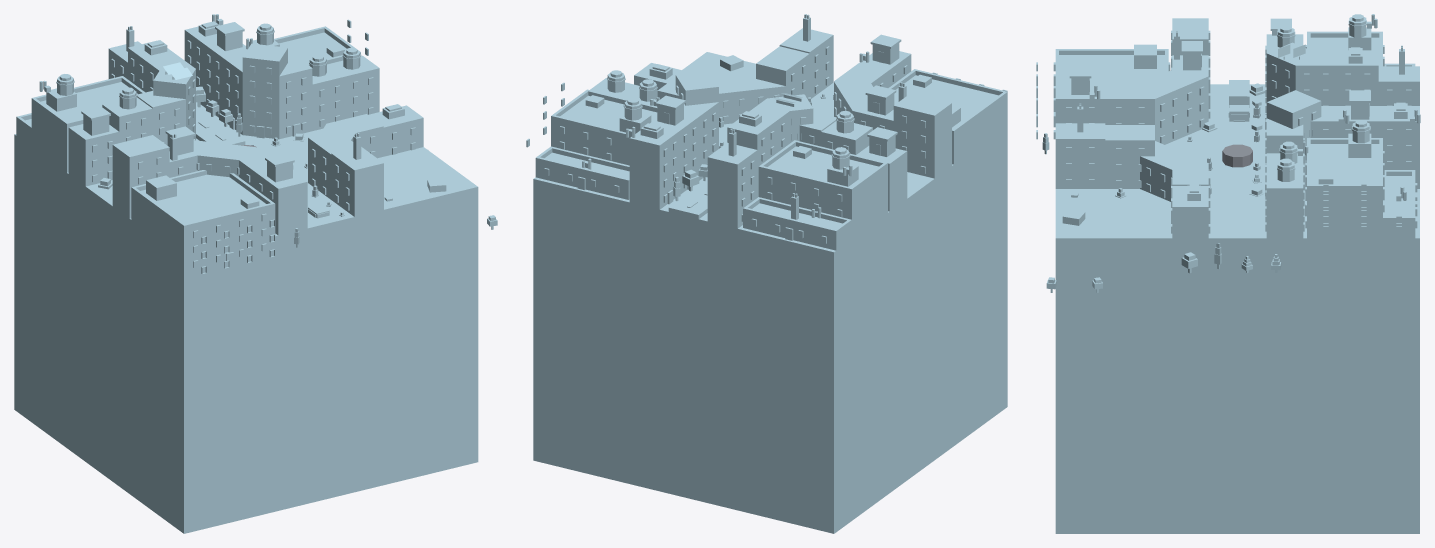
The model's file is block_15_undergroundtanks_100.glb.
3 renders of one model, left to right at view 1: azimuth 30°, elevation 25°; view 2: azimuth 150°, elevation 25°; view 3: azimuth 270°, elevation 25°, orthographic. The views are drawn at different scales.
Parts seen in each view (by area): view 1: Patch_MidRight_b16_UT, Cerda_MidRight_b16_UT, Insets_MidRight_b16_UT, CerdaRoofProps_MidRight_b16_UT, Roads_MidRight_b16_UT, Green_MidRight_b16_UT; view 2: Patch_MidRight_b16_UT, Cerda_MidRight_b16_UT, Insets_MidRight_b16_UT, CerdaRoofProps_MidRight_b16_UT, Roads_MidRight_b16_UT; view 3: Patch_MidRight_b16_UT, Cerda_MidRight_b16_UT, Insets_MidRight_b16_UT, CerdaRoofProps_MidRight_b16_UT, Green_MidRight_b16_UT, Asset_Truck.008_UT, UT_TankUnit_15.
Boxes of the visible parts, left/top/right/bottom form: Patch_MidRight_b16_UT: left=14, top=102, right=478, bottom=533; Cerda_MidRight_b16_UT: left=68, top=26, right=423, bottom=251; Insets_MidRight_b16_UT: left=16, top=19, right=368, bottom=290; CerdaRoofProps_MidRight_b16_UT: left=39, top=14, right=404, bottom=182; Roads_MidRight_b16_UT: left=90, top=105, right=345, bottom=242; Green_MidRight_b16_UT: left=370, top=210, right=478, bottom=237; Patch_MidRight_b16_UT: left=533, top=52, right=1007, bottom=533; Cerda_MidRight_b16_UT: left=590, top=28, right=951, bottom=228; Insets_MidRight_b16_UT: left=526, top=69, right=1007, bottom=255; CerdaRoofProps_MidRight_b16_UT: left=582, top=14, right=906, bottom=219; Roads_MidRight_b16_UT: left=668, top=179, right=707, bottom=219; Patch_MidRight_b16_UT: left=1055, top=84, right=1419, bottom=533; Cerda_MidRight_b16_UT: left=1055, top=18, right=1419, bottom=290; Insets_MidRight_b16_UT: left=1036, top=27, right=1417, bottom=255; CerdaRoofProps_MidRight_b16_UT: left=1069, top=14, right=1420, bottom=201; Green_MidRight_b16_UT: left=1055, top=268, right=1189, bottom=290; Asset_Truck.008_UT: left=1228, top=80, right=1249, bottom=121; UT_TankUnit_15: left=1222, top=144, right=1252, bottom=167.
Bounding box in the file's own units: 10.04 × 11.2 × 10.01.
